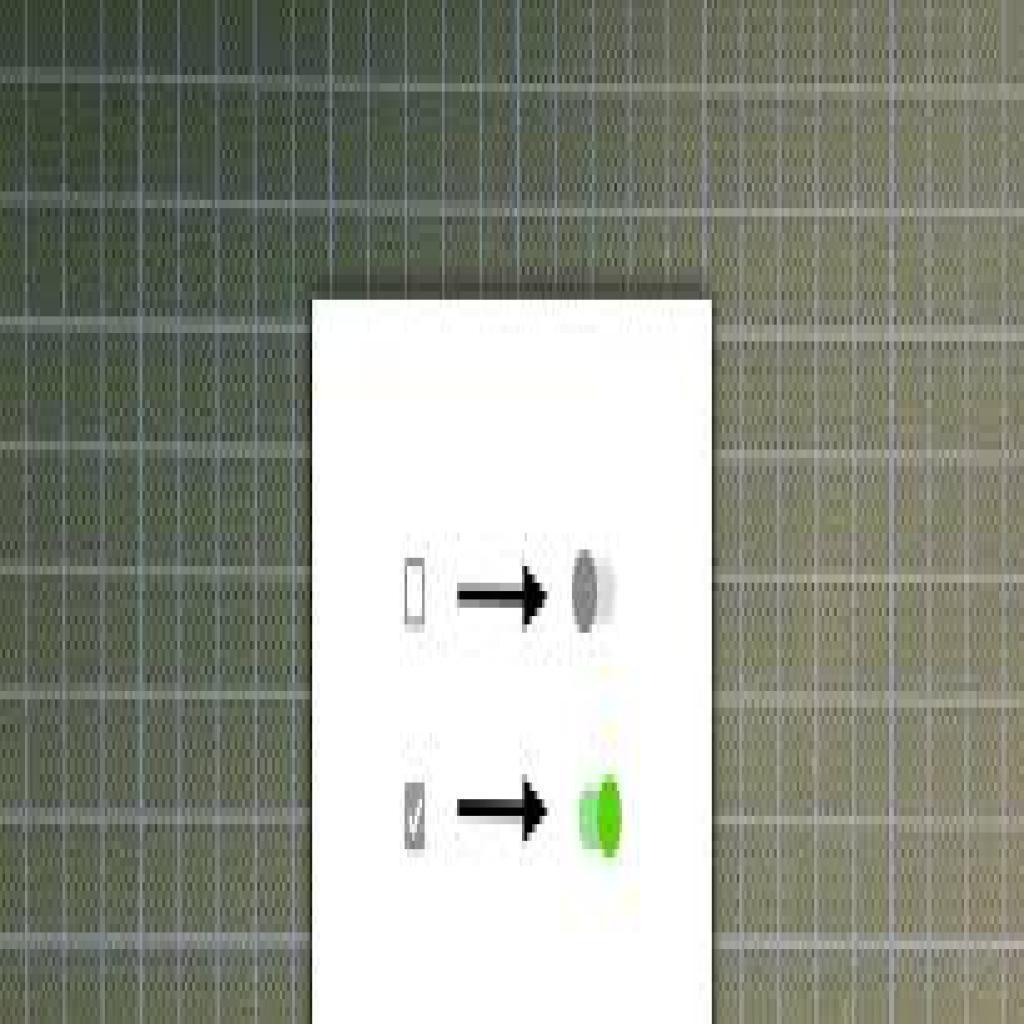checkbox: (404, 781, 429, 852), (406, 558, 429, 630)
switch: (572, 549, 621, 638), (581, 774, 625, 862)
